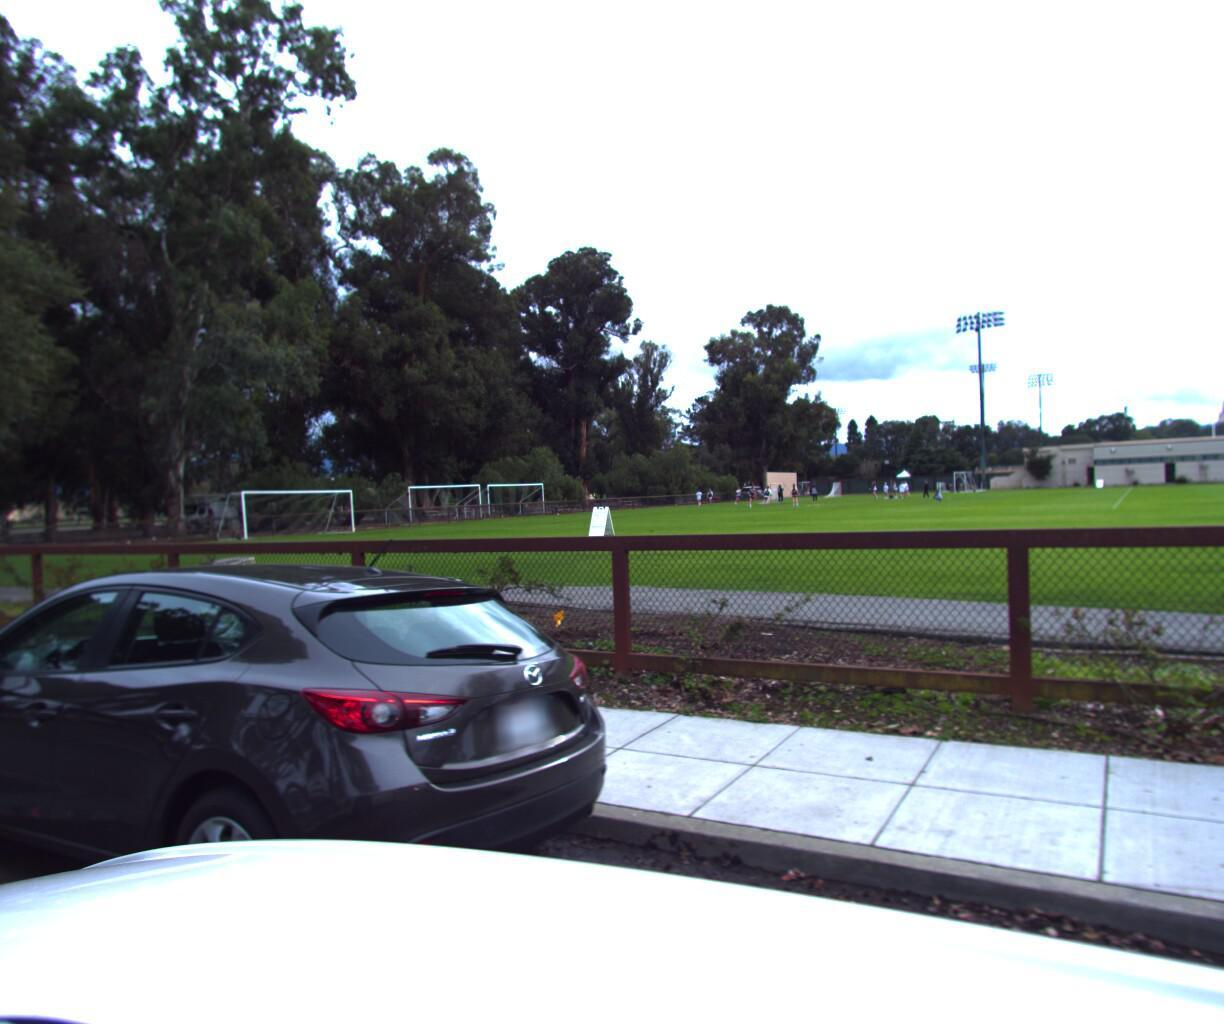car: (0, 542, 668, 1024)
other_vehicle: (163, 487, 268, 529)
